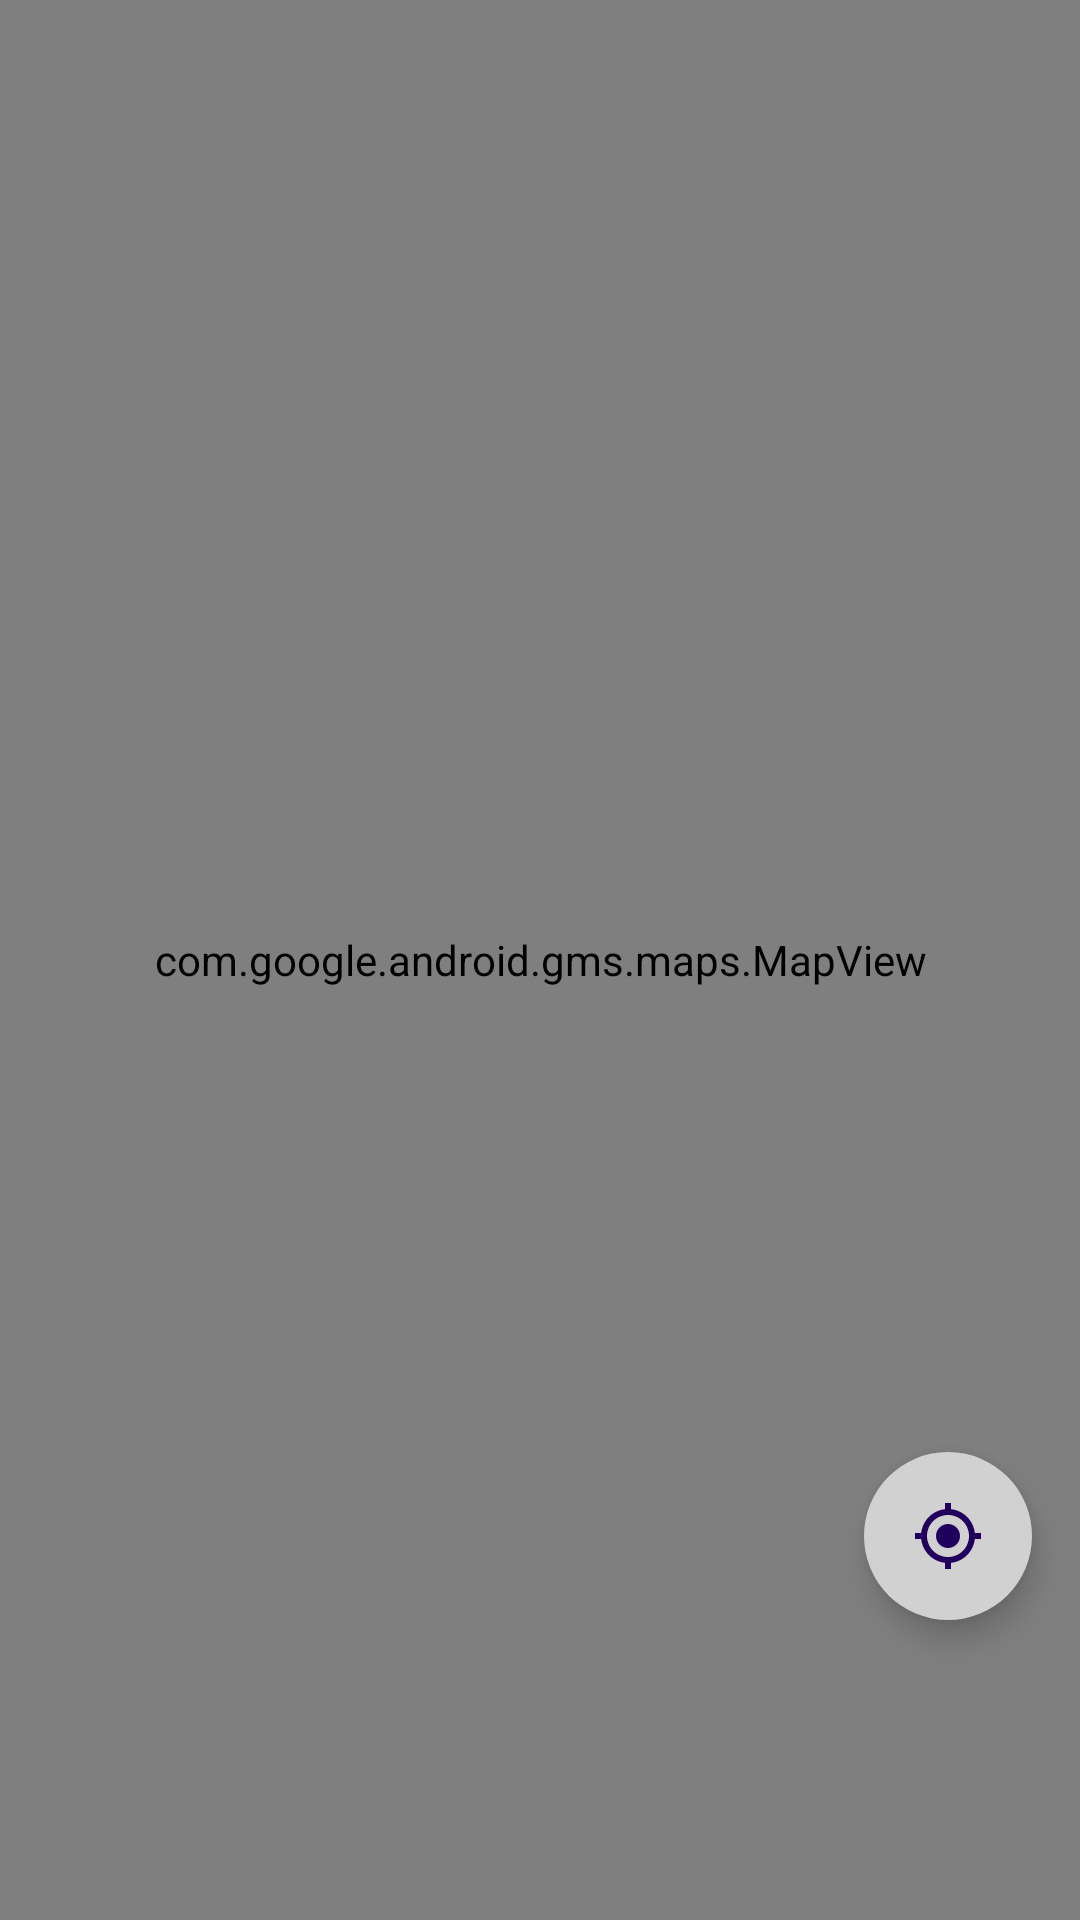

Icons on this 1080x1920 Android screen, each with its box as detection(x1, y1, x2, y2):
location: detection(864, 1452, 1032, 1620)
